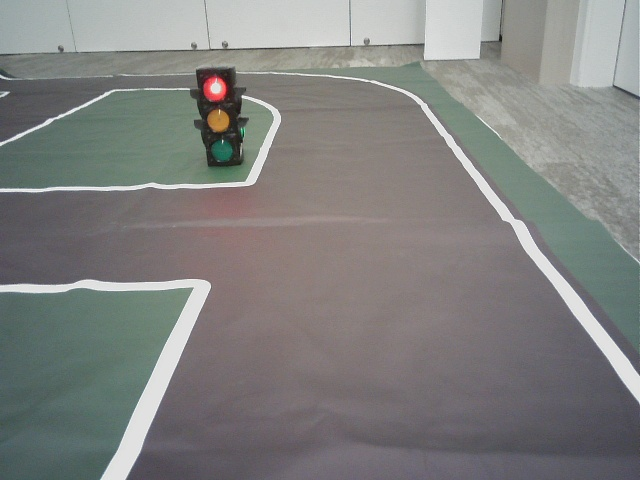red: (199, 70, 236, 160)
